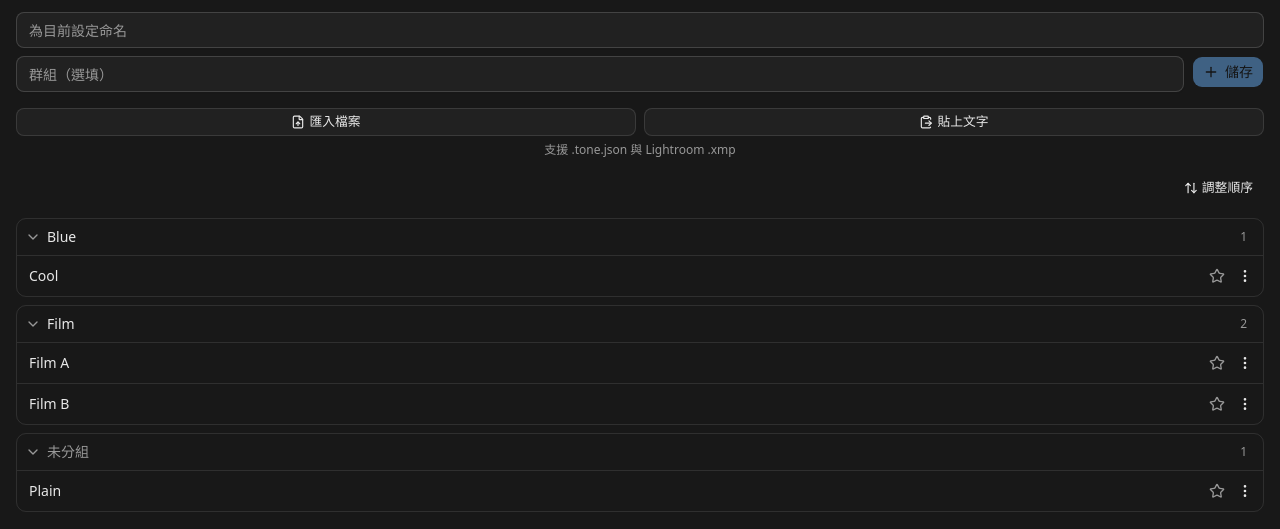
Test: PresetPanel › lists groups first and ungrouped presets last, with collapsible sections
Click the button "Film 2". click: (33, 324)
box: [17,306,1259,342]
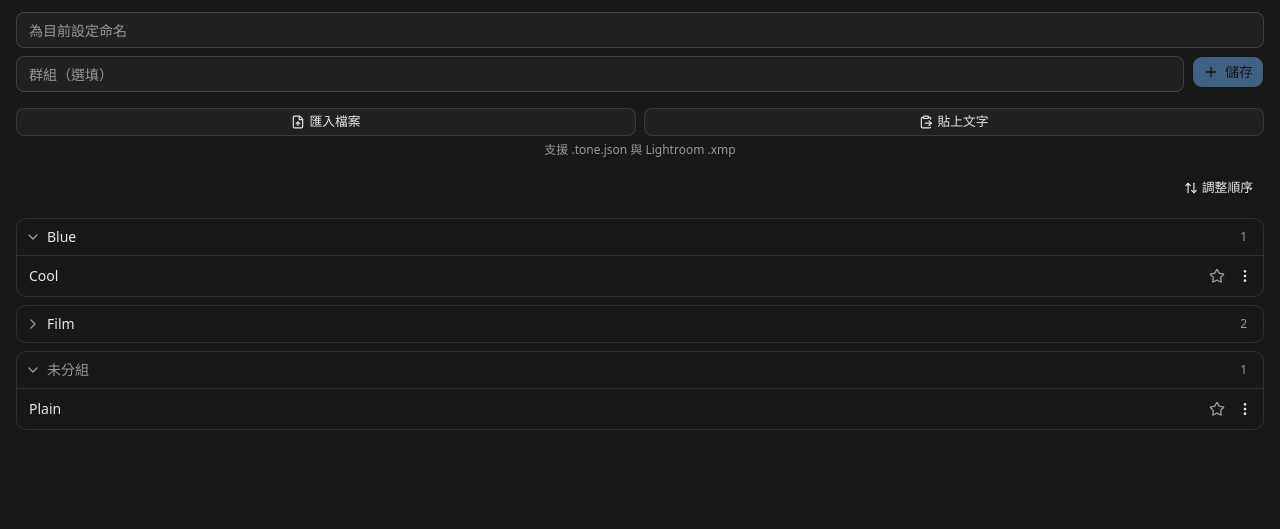
Expected: the button "Cool" is shown, [17,256,1203,296]
Expected: the button "Film A" is gone
Click the button "Film 2". click: (33, 324)
box: [17,306,1259,342]
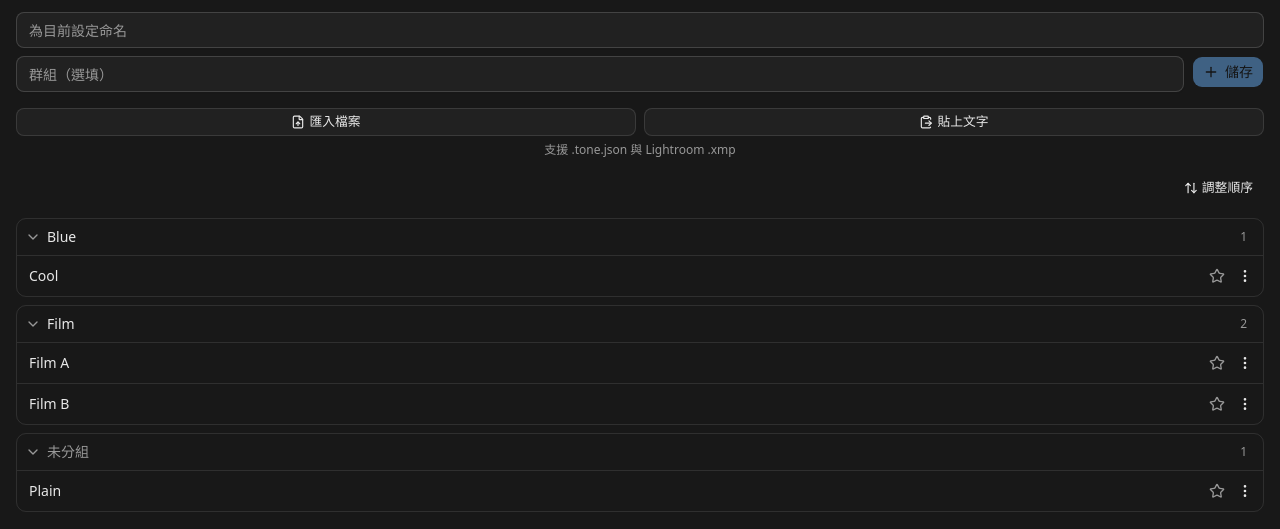
Expected: the button "Film A" is shown, [17,343,1203,383]
